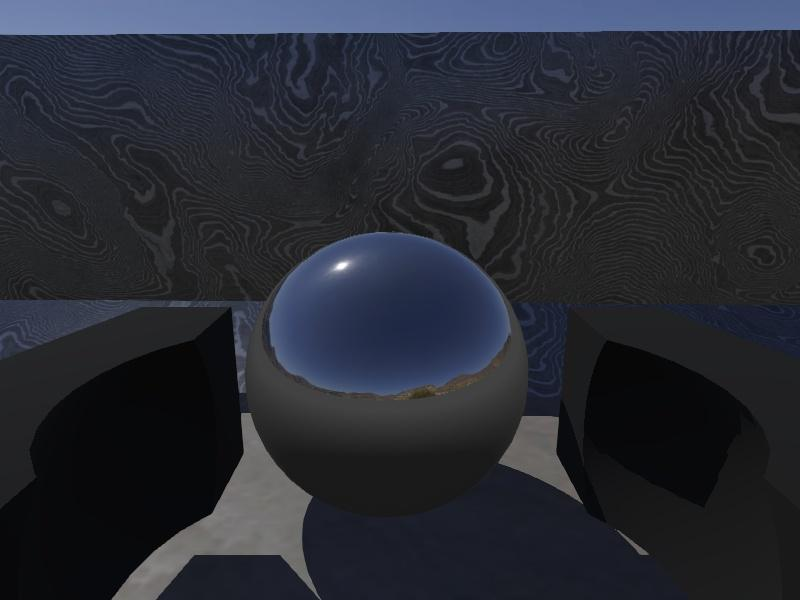steel ball: (244, 230, 530, 519)
